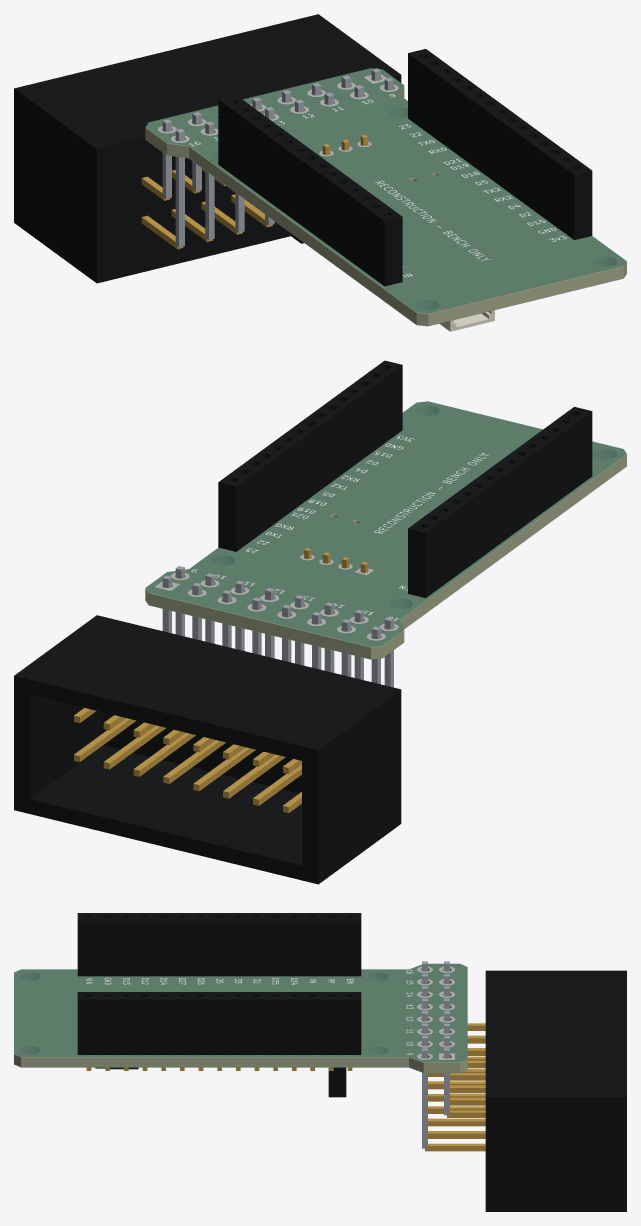
The model's file is can-shield.glb.
3 views of the same model, one above another, from view 1: azimuth 30°, elevation 25°; view 2: azimuth 150°, elevation 25°; view 3: azimuth 270°, elevation 25° (orthographic). The views are drawn at different scales.
Parts seen in each view (by area): view 1: J1_AMTEK_OBD_right_angle_visual (Shell) (×7), =>[0:1:1:274], =>[0:1:1:272], U3_two_SSQ_115_visual (Shell) (×34), =>[0:1:1:270], =>[0:1:1:269], =>[0:1:1:192], =>[0:1:1:273]; view 2: J1_AMTEK_OBD_right_angle_visual (Shell) (×5), =>[0:1:1:274], =>[0:1:1:272], U3_two_SSQ_115_visual (Shell) (×30), =>[0:1:1:269], =>[0:1:1:270]; view 3: J1_AMTEK_OBD_right_angle_visual (Shell) (×8), U3_two_SSQ_115_visual (Shell) (×30), =>[0:1:1:274], =>[0:1:1:272], =>[0:1:1:269], =>[0:1:1:270], =>[0:1:1:273].
Part boxes in pixels (box(x1,y1,x2,y2)): J1_AMTEK_OBD_right_angle_visual (Shell) (×7): box(14, 14, 401, 283); =>[0:1:1:274]: box(145, 69, 626, 325); =>[0:1:1:272]: box(145, 68, 626, 313); U3_two_SSQ_115_visual (Shell) (×34): box(218, 52, 592, 286); =>[0:1:1:270]: box(189, 94, 566, 277); =>[0:1:1:269]: box(158, 74, 398, 156); =>[0:1:1:192]: box(439, 310, 494, 331); =>[0:1:1:273]: box(145, 139, 626, 326); J1_AMTEK_OBD_right_angle_visual (Shell) (×5): box(14, 615, 401, 884); =>[0:1:1:274]: box(145, 402, 626, 659); =>[0:1:1:272]: box(145, 401, 626, 646); U3_two_SSQ_115_visual (Shell) (×30): box(230, 363, 592, 597); =>[0:1:1:269]: box(154, 554, 398, 640); =>[0:1:1:270]: box(191, 435, 488, 621); J1_AMTEK_OBD_right_angle_visual (Shell) (×8): box(422, 970, 626, 1211); U3_two_SSQ_115_visual (Shell) (×30): box(77, 918, 361, 1054); =>[0:1:1:274]: box(14, 964, 467, 1072); =>[0:1:1:272]: box(14, 963, 467, 1062); =>[0:1:1:269]: box(88, 966, 454, 1059); =>[0:1:1:270]: box(86, 969, 413, 1054); =>[0:1:1:273]: box(14, 1064, 467, 1073).
Bounding box in the file's own units: 0.0408 × 0.0289 × 0.0835.
